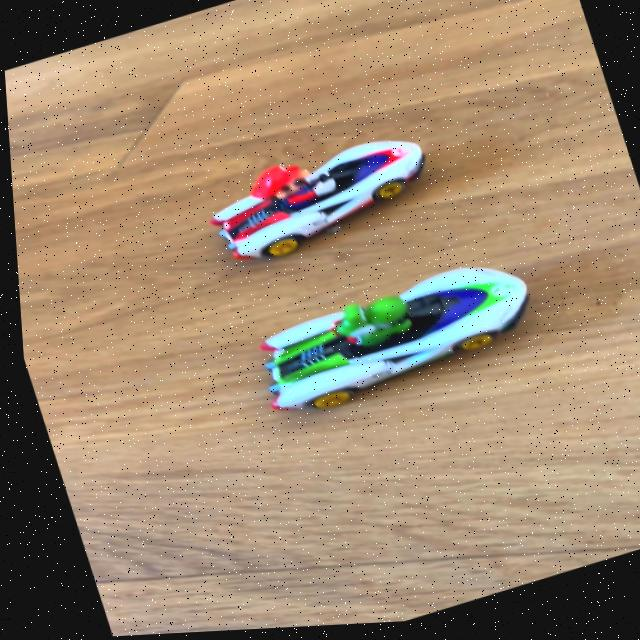mario: (181, 116, 456, 278)
yoshi: (209, 234, 558, 436)
